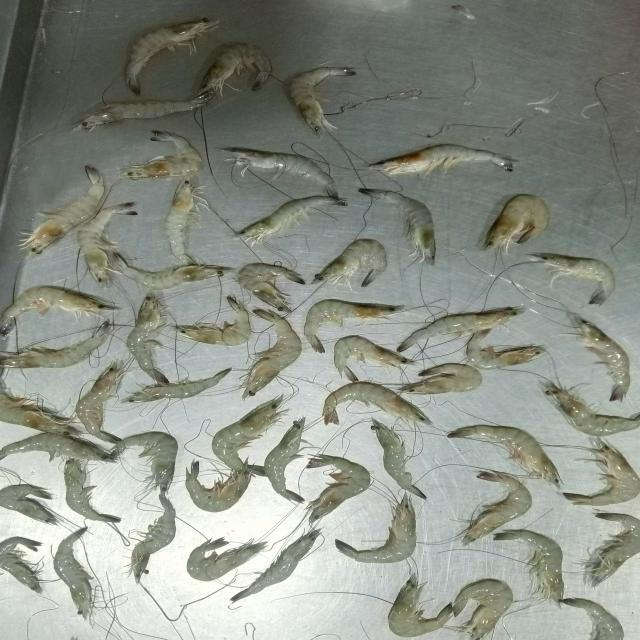shrimp: (21, 166, 106, 255), (447, 425, 562, 486), (229, 529, 319, 604), (126, 19, 214, 95), (335, 492, 417, 562), (0, 286, 117, 335), (359, 187, 435, 261), (397, 307, 523, 351), (220, 147, 337, 194), (459, 470, 532, 545), (212, 396, 283, 473), (241, 308, 302, 397), (0, 320, 115, 367), (304, 299, 404, 352), (238, 195, 346, 243), (493, 530, 563, 602), (564, 439, 639, 504), (573, 317, 630, 399), (77, 202, 135, 282), (289, 65, 355, 135), (547, 385, 639, 435), (368, 144, 513, 175), (306, 455, 371, 524), (323, 382, 431, 423), (112, 252, 230, 289), (530, 252, 615, 303), (78, 97, 209, 130), (1, 379, 78, 435), (371, 421, 426, 498), (584, 512, 639, 586), (196, 44, 271, 98), (111, 431, 177, 492), (130, 493, 175, 582), (388, 575, 452, 637), (123, 130, 203, 179), (127, 294, 170, 383), (334, 335, 415, 382), (176, 296, 251, 345), (452, 579, 513, 639), (311, 239, 387, 287), (237, 263, 306, 315), (53, 528, 92, 620), (482, 195, 548, 249), (76, 361, 124, 434), (187, 537, 266, 581), (64, 459, 119, 522), (135, 368, 231, 403), (265, 419, 305, 502), (186, 460, 251, 511), (465, 328, 543, 370), (1, 433, 114, 461), (166, 179, 201, 265), (391, 363, 482, 394), (562, 598, 623, 639), (1, 485, 60, 526), (1, 538, 41, 593)
